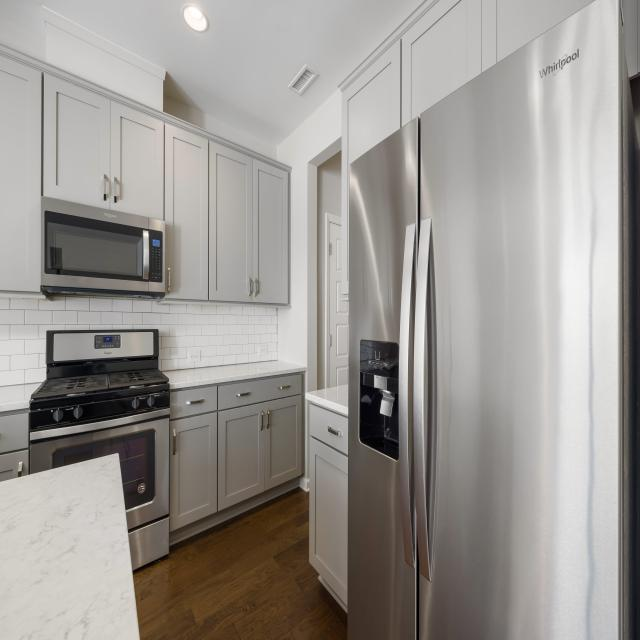Appliance_Fridge: (345, 0, 640, 640)
Appliance_Microwave: (40, 197, 166, 301)
Appliance_Oven: (28, 329, 170, 572)
Cabinet_Flat: (170, 374, 302, 419), (309, 404, 349, 454), (0, 409, 28, 455)
Cabinet_Shaker: (0, 46, 290, 307), (0, 53, 291, 305), (339, 0, 596, 176), (339, 0, 599, 167), (171, 395, 304, 532), (308, 444, 348, 607), (0, 449, 29, 483)
Countertop_Granite: (0, 453, 141, 640), (164, 361, 309, 390), (0, 382, 43, 413), (306, 385, 348, 415)
